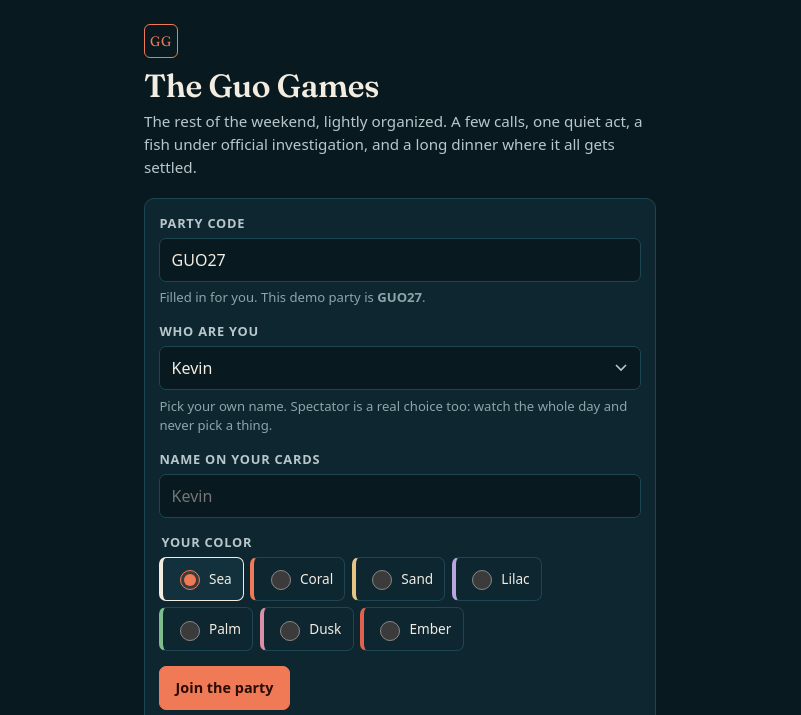
Scenario: files and strikes an incident from Today, and the words leave the device save
Select "Nick (organizer)" in the dropdown labelled "Who are you" at (400, 368), box 159,346 -> 641,390
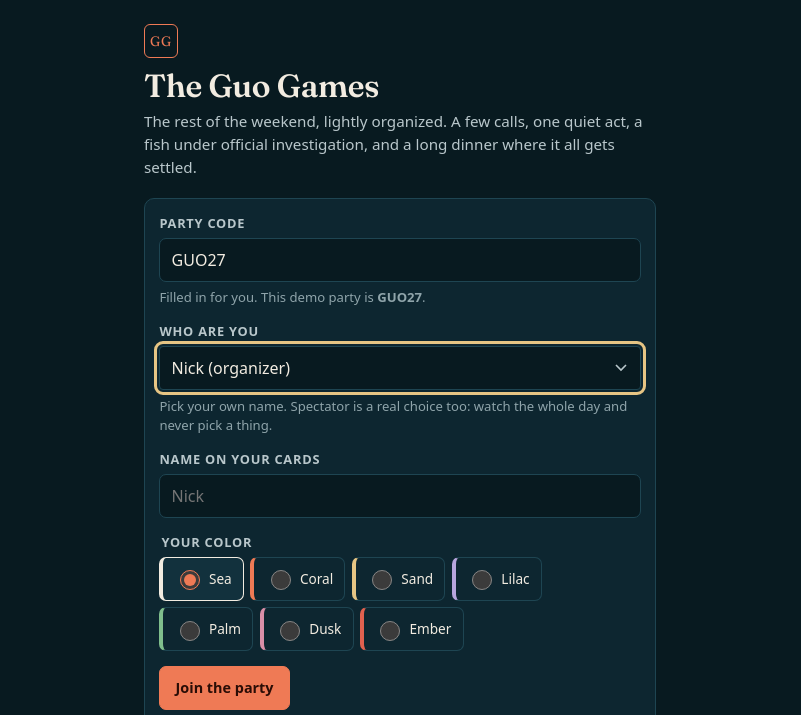
Click the button "Join the party" at (225, 688), box 159,666 -> 290,710
(page scrolled)
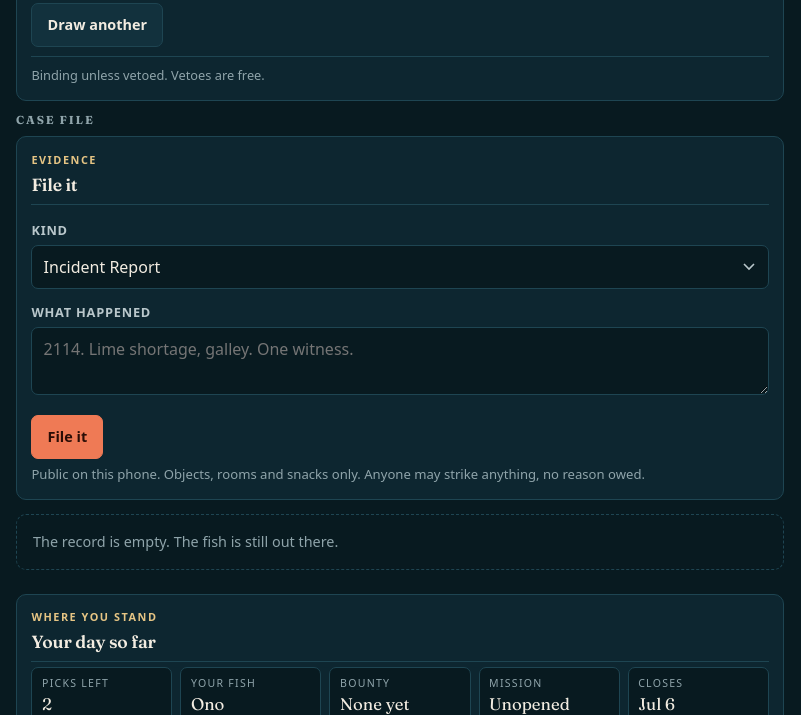
Type "The speaker was moved without consent." into the text box labelled "What happened" at (400, 361), box 31,327 -> 769,394
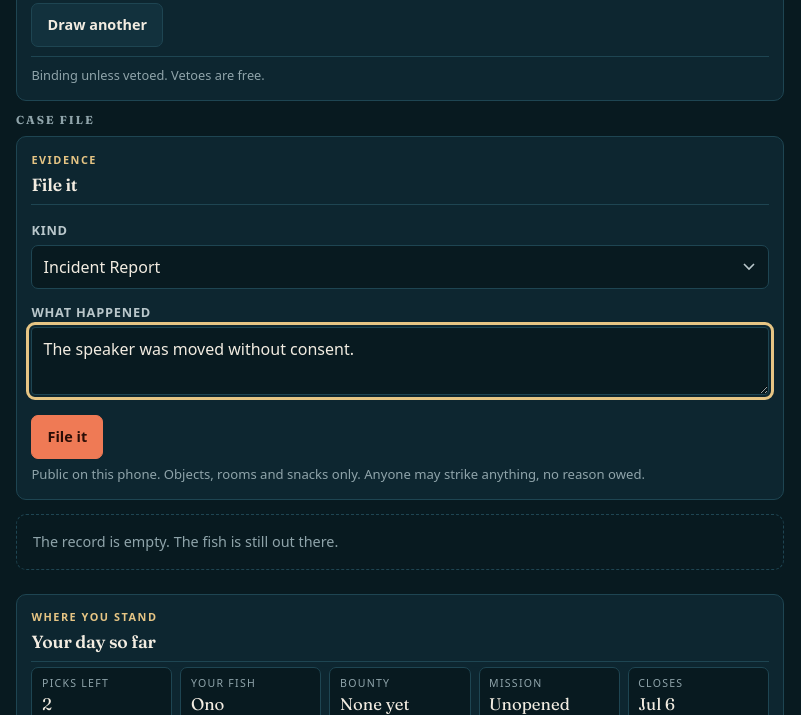
Click the button "File it" at (67, 437), box 31,415 -> 103,459
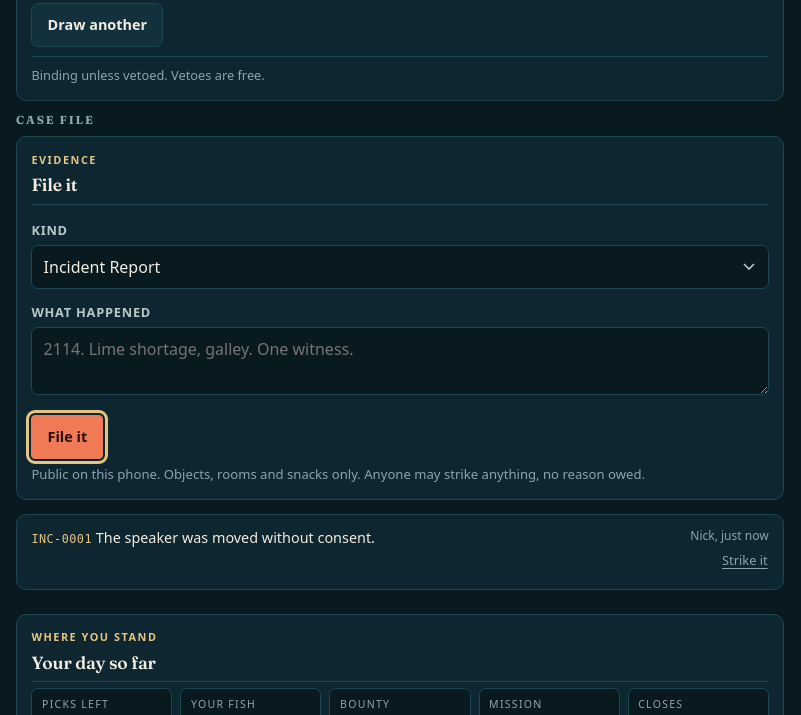
Click the button with aria-label "Strike INC-0001 from the record" at (745, 561), box 713,545 -> 777,577
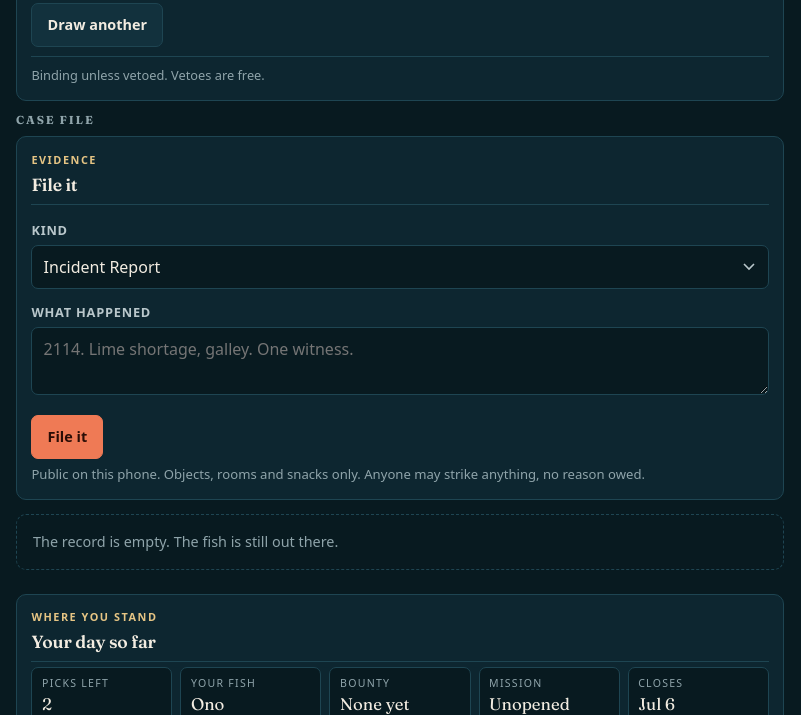
Check: the text "The record is empty. The fish is still out there." is shown, box 16,514 -> 784,570
